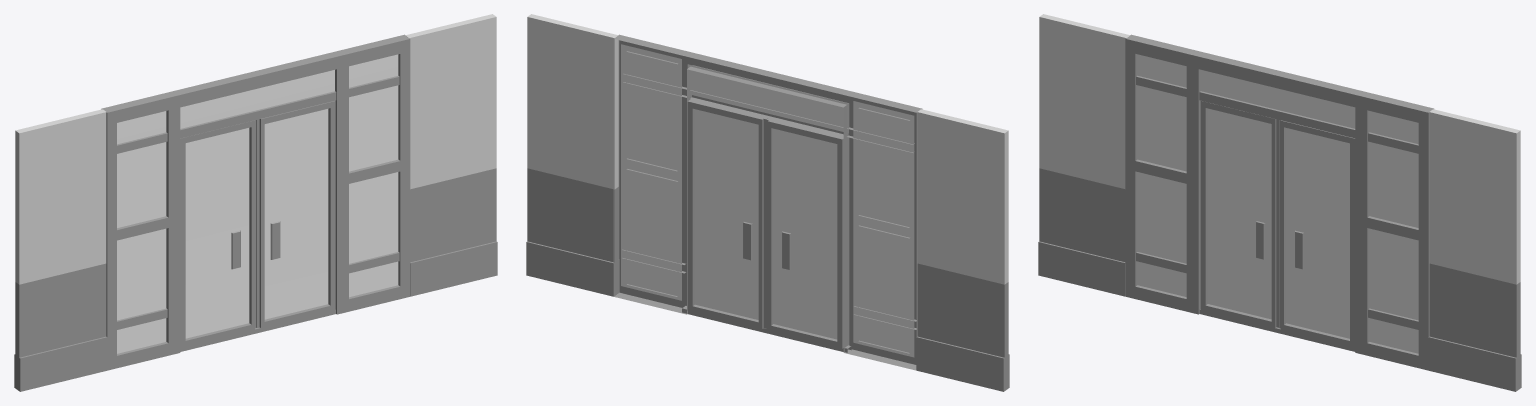
File: wall_wallroad_1.fbx
3 views of the same model, side by side, from view 1: azimuth 30°, elevation 25°; view 2: azimuth 150°, elevation 25°; view 3: azimuth 330°, elevation 25° (orthographic).
Parts seen in each view (by area): view 1: wall_wallroad_1, prefab_door1, prefab_door; view 2: wall_wallroad_1, prefab_door1, prefab_door; view 3: wall_wallroad_1, prefab_door, prefab_door1.
Boxes of the visible parts, x1=… form: wall_wallroad_1: x1=14, y1=14, x2=497, y2=391; prefab_door1: x1=256, y1=101, x2=335, y2=328; prefab_door: x1=180, y1=120, x2=256, y2=347; wall_wallroad_1: x1=526, y1=14, x2=1009, y2=391; prefab_door1: x1=687, y1=99, x2=767, y2=328; prefab_door: x1=766, y1=118, x2=843, y2=348; wall_wallroad_1: x1=1038, y1=14, x2=1521, y2=391; prefab_door: x1=1200, y1=101, x2=1279, y2=328; prefab_door1: x1=1279, y1=120, x2=1355, y2=347.
Size of the model in its own units: 310 by 160 by 6.76.
